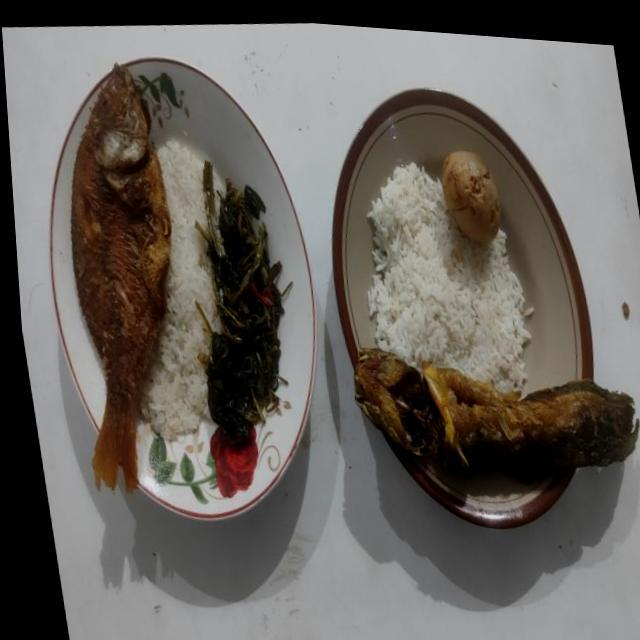ikan_mujair: (70, 63, 170, 490)
nasi_putih: (368, 162, 534, 391), (141, 138, 219, 440)
tumis_kangkung: (195, 160, 287, 442)
